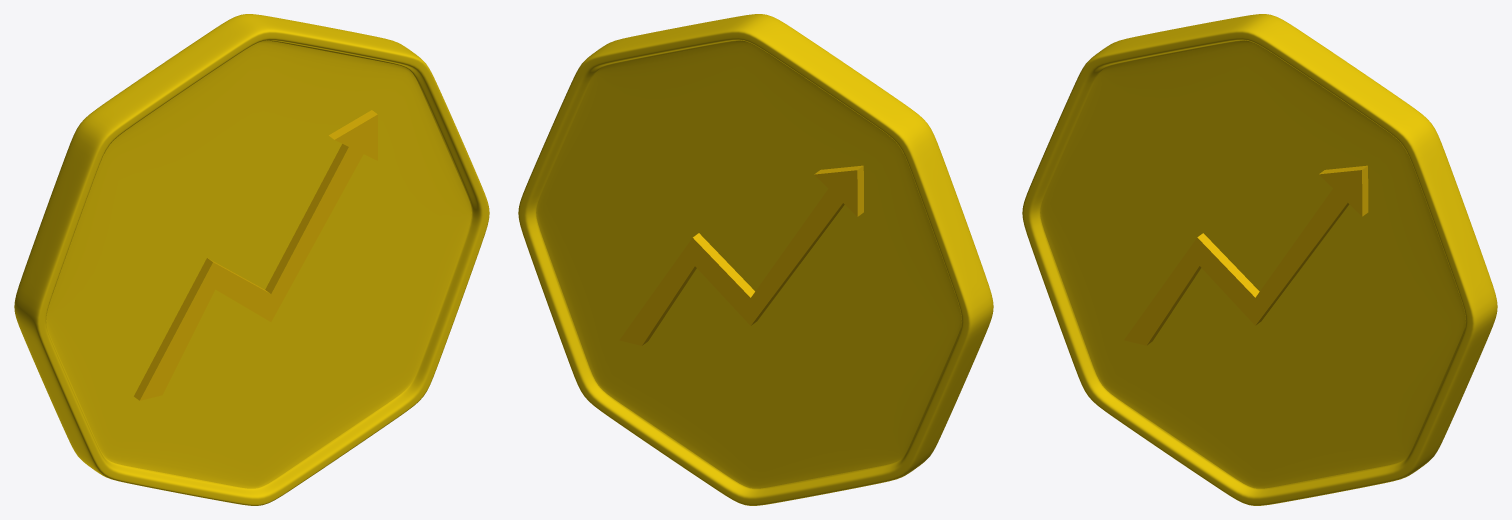
File: CryptoCoin.glb
3 views of the same model, side by side, from view 1: azimuth 30°, elevation 25°; view 2: azimuth 150°, elevation 25°; view 3: azimuth 330°, elevation 25° (orthographic).
Visible parts, largest first — view 1: Cylinder, Cylinder.001, Plane; view 2: Cylinder, Cylinder.001, Plane; view 3: Cylinder, Cylinder.001, Plane.
Boxes of the visible parts, x1,y1,x2,y2 form: Cylinder: (46,40,471,488); Cylinder.001: (14,14,489,505); Plane: (134,110,377,400); Cylinder: (536,40,961,488); Cylinder.001: (518,14,993,505); Plane: (619,165,863,345); Cylinder: (1040,40,1465,488); Cylinder.001: (1022,14,1497,505); Plane: (1124,165,1368,345).
Size of the model in its own units: 1.97 by 1.97 by 0.1813.
